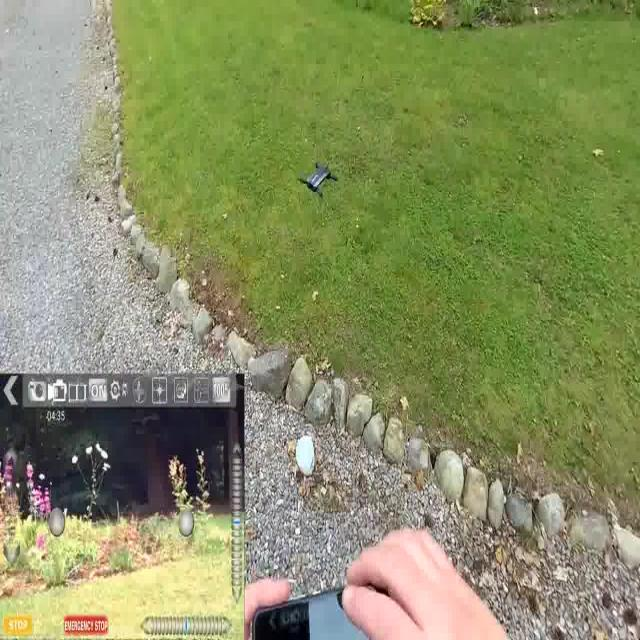drone: (294, 158, 340, 202)
